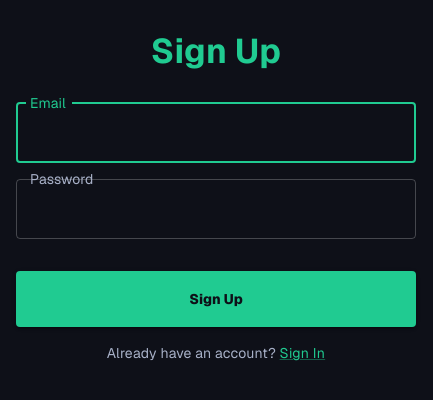
SignUp page › shows a fallback error when fetch rejects
In the field labelled "Email": (216, 133) [16,103,416,163], type "a@b.com"
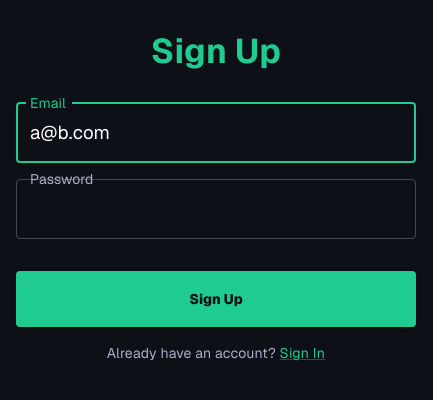
In the password field labelled "Password": (216, 209) [16,179,416,238], type "ChrisIsTheBest42!"
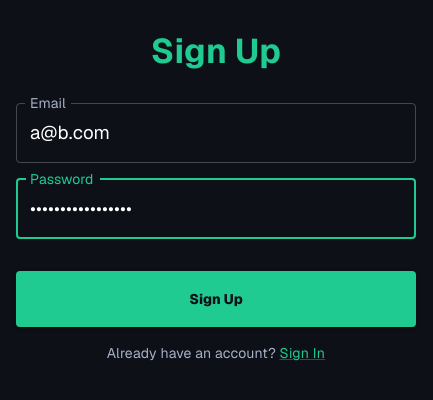
Click the button "Sign Up": (216, 299) [16,271,416,327]
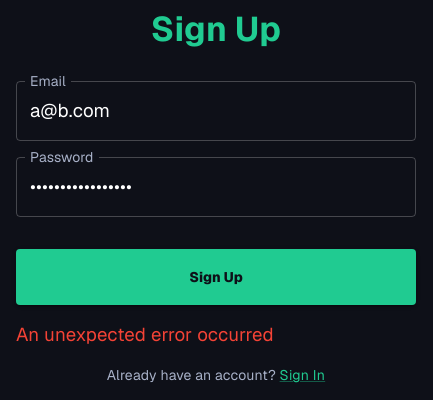
Check: the text with test id "sign-up-error" shows "unexpected error", box [16,322,274,347]
